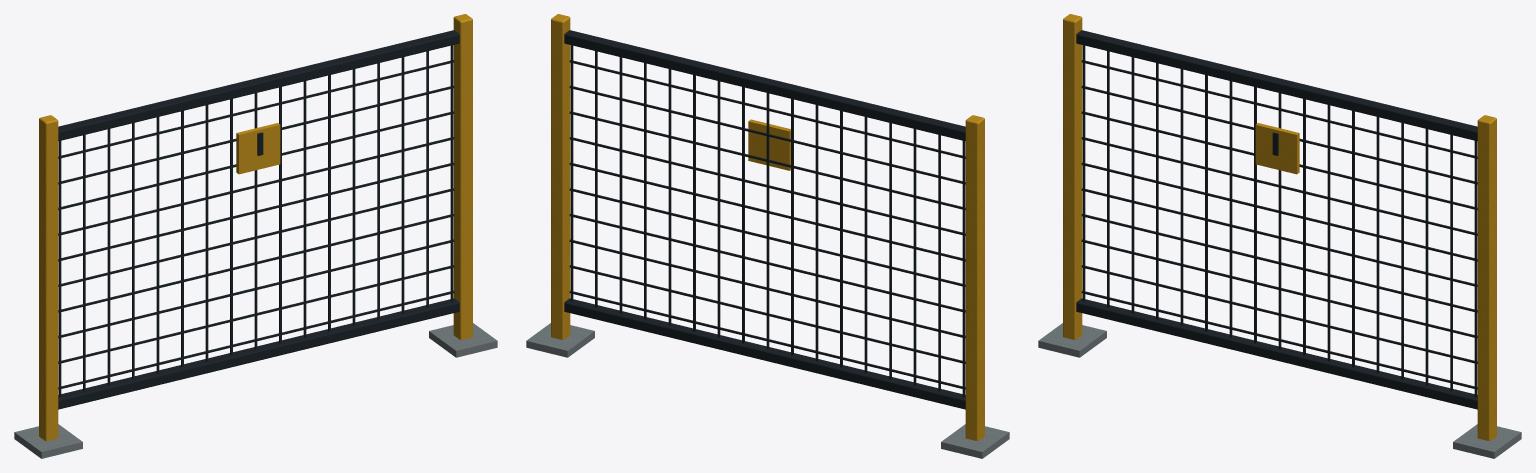
File: safety-fence.7f1e49d9c68b.glb
The picture shows the model from 3 angles, left to right: view 1: azimuth 30°, elevation 25°; view 2: azimuth 150°, elevation 25°; view 3: azimuth 330°, elevation 25°; orthographic projection.
Parts seen in each view (by area): view 1: post_0001, post_0003, rail_0006, rail_0005, warning_plate_0034, foot_0002, foot_0004, horizontal_mesh_0025, horizontal_mesh_0028, horizontal_mesh_0033, horizontal_mesh_0029, horizontal_mesh_0026 (+22 smaller); view 2: post_0001, post_0003, rail_0006, rail_0005, warning_plate_0034, foot_0002, foot_0004, horizontal_mesh_0028, horizontal_mesh_0031, horizontal_mesh_0033, horizontal_mesh_0025, horizontal_mesh_0024 (+22 smaller); view 3: post_0003, post_0001, rail_0006, rail_0005, warning_plate_0034, foot_0004, foot_0002, horizontal_mesh_0028, horizontal_mesh_0033, horizontal_mesh_0025, horizontal_mesh_0024, horizontal_mesh_0026 (+22 smaller).
Part boxes in pixels (x1,y1,x2,y2): post_0001: (39, 115, 58, 441); post_0003: (453, 14, 472, 339); rail_0006: (58, 30, 459, 141); rail_0005: (58, 298, 459, 409); warning_plate_0034: (236, 123, 280, 174); foot_0002: (14, 424, 82, 458); foot_0004: (429, 323, 497, 357); horizontal_mesh_0025: (58, 265, 454, 363); horizontal_mesh_0028: (58, 188, 454, 286); horizontal_mesh_0033: (58, 60, 454, 158); horizontal_mesh_0029: (58, 162, 454, 261); horizontal_mesh_0026: (58, 239, 454, 338); post_0001: (965, 115, 984, 441); post_0003: (551, 14, 570, 339); rail_0006: (564, 30, 965, 141); rail_0005: (564, 298, 965, 409); warning_plate_0034: (748, 119, 790, 170); foot_0002: (941, 424, 1009, 458); foot_0004: (526, 323, 594, 357); horizontal_mesh_0028: (569, 188, 965, 286); horizontal_mesh_0031: (569, 111, 965, 210); horizontal_mesh_0033: (569, 60, 965, 158); horizontal_mesh_0025: (569, 265, 965, 363); horizontal_mesh_0024: (569, 291, 965, 389); post_0003: (1477, 115, 1496, 441); post_0001: (1063, 14, 1082, 339); rail_0006: (1076, 30, 1477, 141); rail_0005: (1076, 298, 1477, 409); warning_plate_0034: (1255, 123, 1299, 174); foot_0004: (1453, 424, 1521, 458); foot_0002: (1038, 323, 1106, 357); horizontal_mesh_0028: (1081, 188, 1477, 286); horizontal_mesh_0033: (1081, 60, 1477, 158); horizontal_mesh_0025: (1081, 265, 1477, 363); horizontal_mesh_0024: (1081, 291, 1477, 389); horizontal_mesh_0026: (1081, 239, 1477, 338).
Size of the model in its own units: 2.42 by 1.65 by 0.25.
3 materials, 3 textured.
